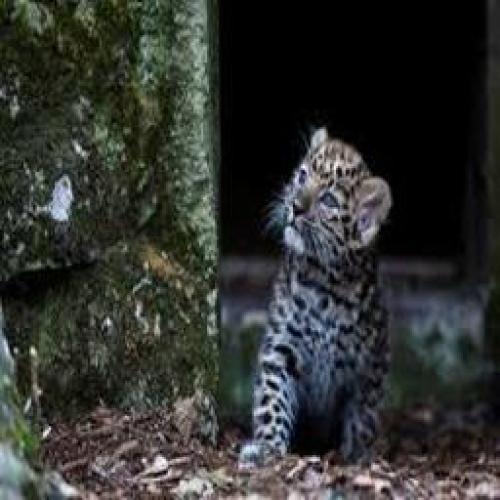amur_leopard-endangered: (248, 116, 406, 483)
